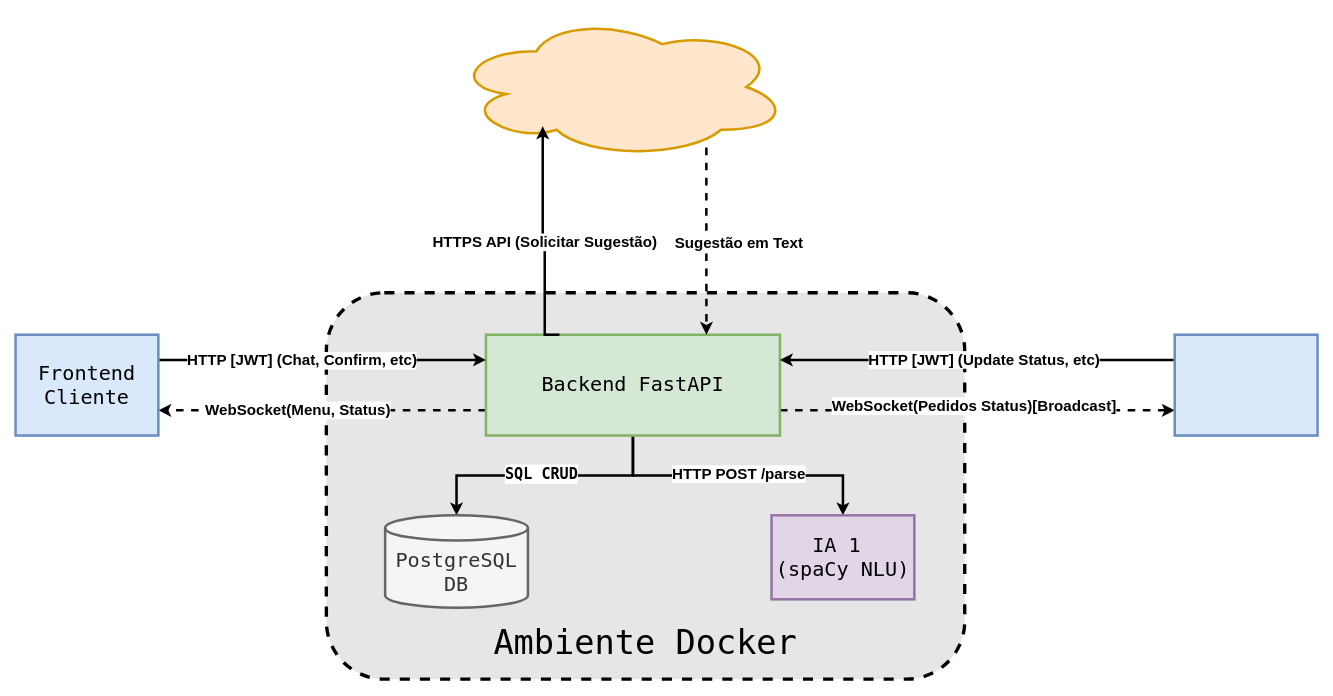
Image size: 1333x696. Some labels were removed from this diagram. The centre of each missing label's shape, as x and y in pixels:
"Frontend Cozinha" belongs at (x=1245, y=384).
"IA 2 (Gemini)" belongs at (x=620, y=86).
